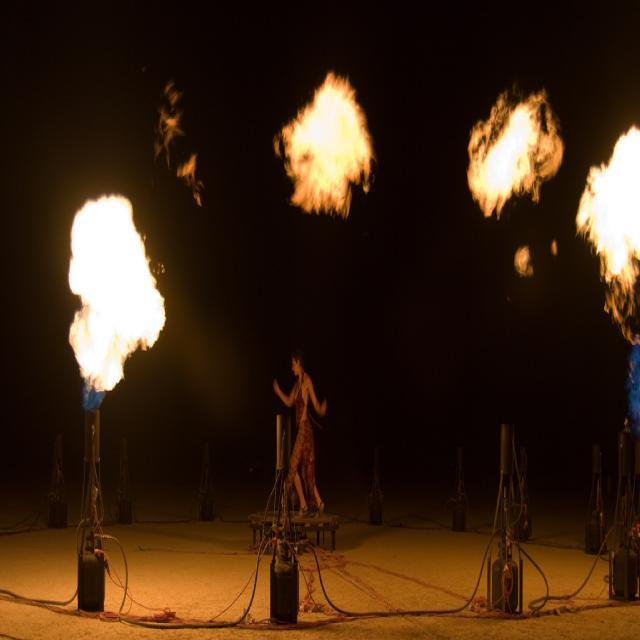Fire: (68, 208, 154, 374), (294, 98, 368, 190), (597, 146, 640, 262), (484, 121, 540, 188)
